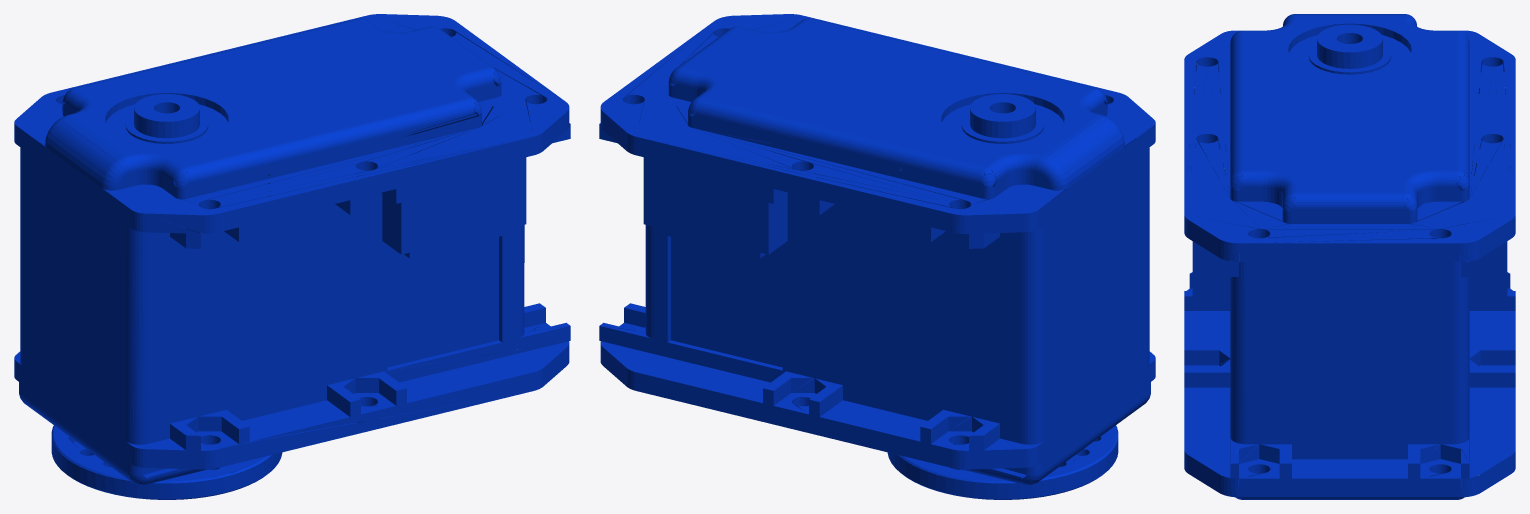
File: brazo0.dae
The picture shows the model from 3 angles, left to right: view 1: azimuth 30°, elevation 25°; view 2: azimuth 150°, elevation 25°; view 3: azimuth 270°, elevation 25°; orthographic projection.
Visible parts, largest first — view 1: servo1; view 2: servo1; view 3: servo1.
Part boxes in pixels (x1,y1,x2,y2): servo1: [14, 14, 570, 499]; servo1: [599, 14, 1155, 499]; servo1: [1184, 14, 1515, 499].
Size of the model in its own units: 0.0621 by 0.0402 by 0.0478.
